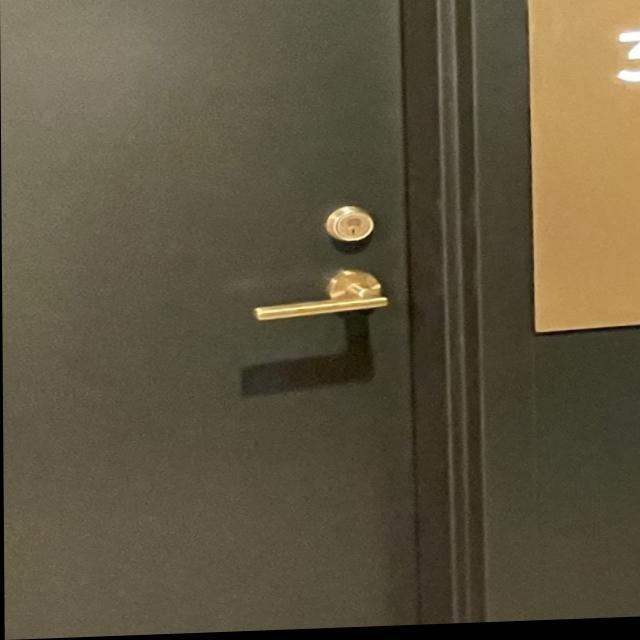door_handle: (238, 256, 414, 337)
